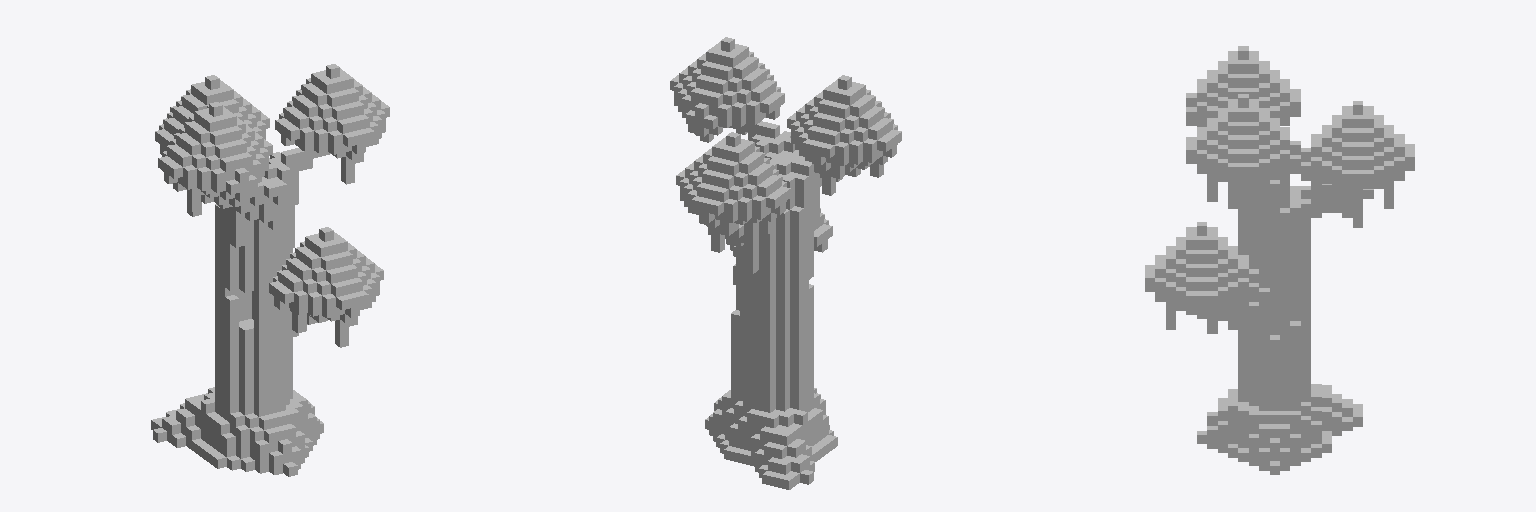
Rendered from tree1.obj.
3 views of the same model, side by side, from view 1: azimuth 30°, elevation 25°; view 2: azimuth 150°, elevation 25°; view 3: azimuth 270°, elevation 25° (orthographic).
Visible parts, largest first — view 1: tree1; view 2: tree1; view 3: tree1.
Boxes of the visible parts, <box> form: tree1: <box>151,64,389,476</box>; tree1: <box>670,37,901,489</box>; tree1: <box>1145,46,1414,474</box>.
Size of the model in its own units: 24 by 40 by 26.